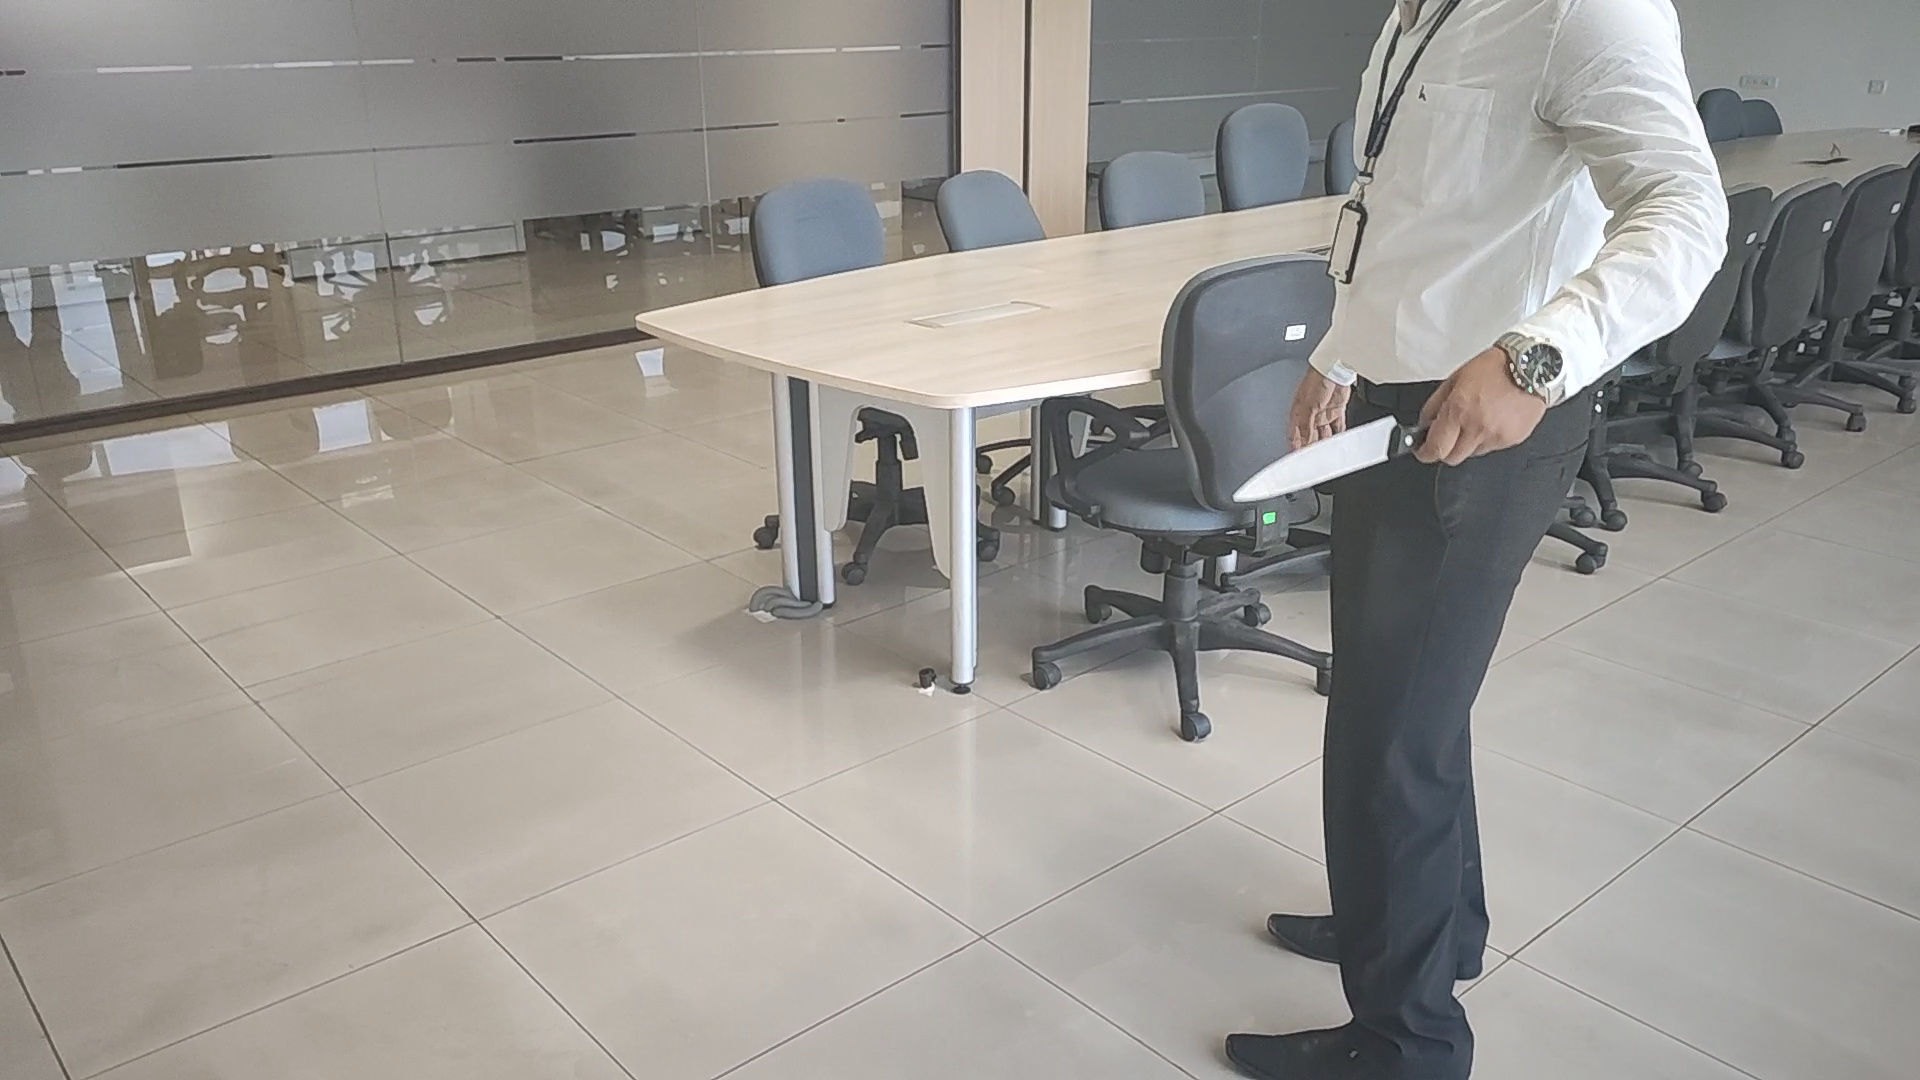knife: (1233, 411, 1424, 506)
